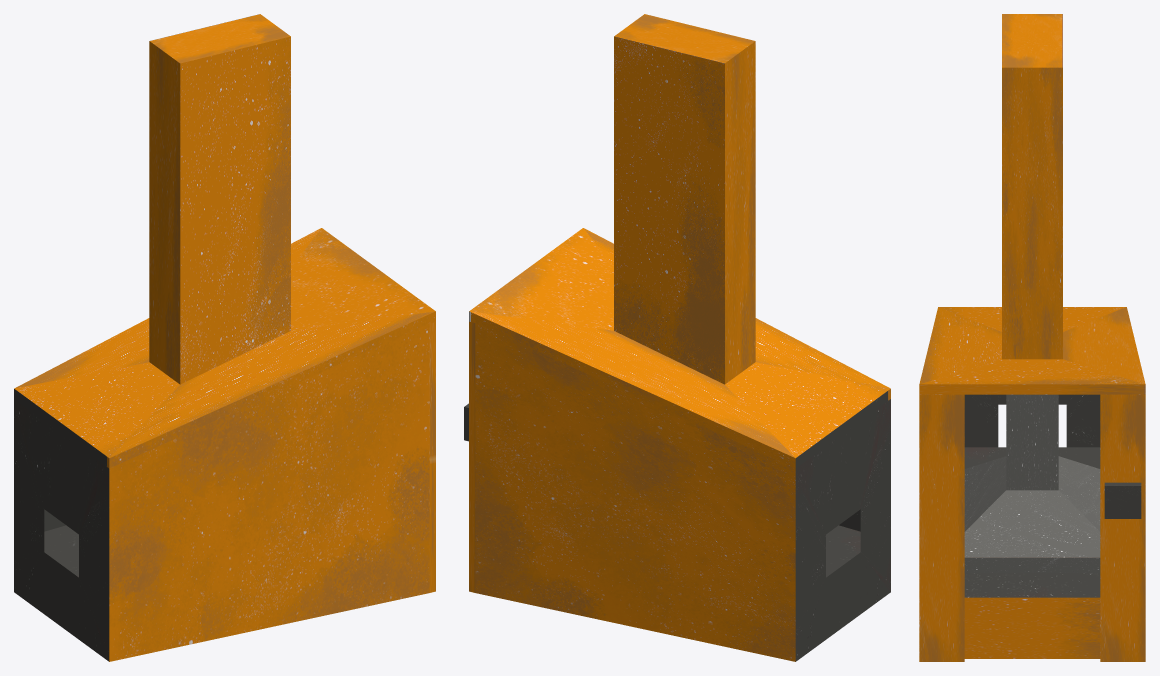
The model's file is machine.fbx.
3 renders of one model, left to right at view 1: azimuth 30°, elevation 25°; view 2: azimuth 150°, elevation 25°; view 3: azimuth 270°, elevation 25°, orthographic.
Parts seen in each view (by area): view 1: 立方體.036; view 2: 立方體.036; view 3: 立方體.036, 立方體.045.
Boxes of the visible parts, x1,y1,x2,y2 form: 立方體.036: (14, 14, 435, 661); 立方體.036: (464, 14, 890, 661); 立方體.036: (919, 14, 1145, 661); 立方體.045: (964, 394, 1100, 572).
Bounding box in the file's own units: 304 × 492 × 185.
